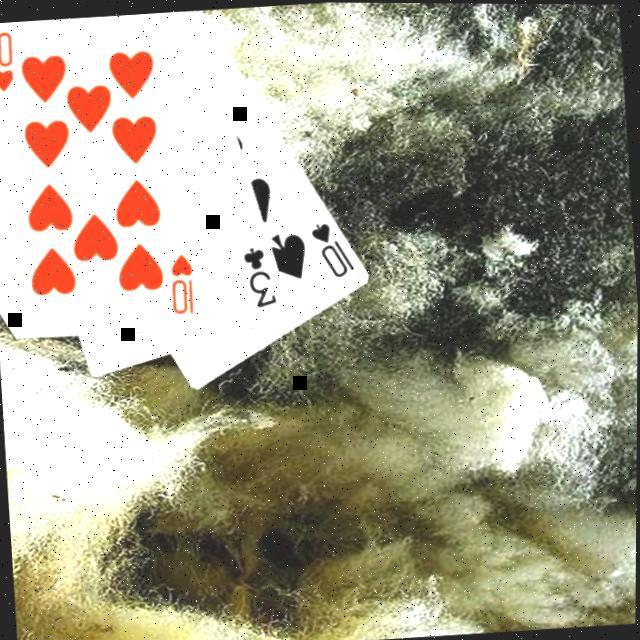10H: (168, 248, 201, 316), (0, 26, 20, 94)
10S: (309, 214, 361, 280)
3C: (241, 240, 283, 310)
